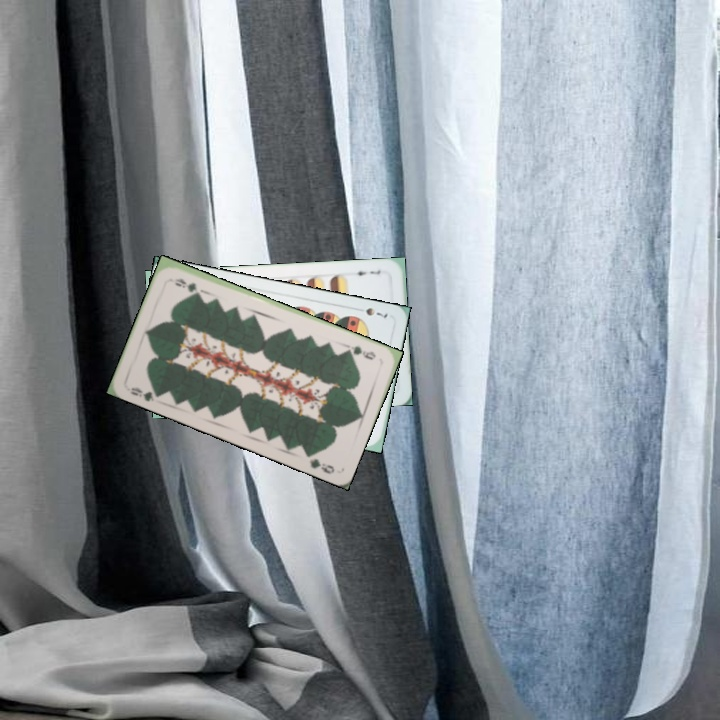E7: (349, 266, 383, 278)
G9: (126, 383, 165, 404), (342, 341, 378, 363)
S7: (352, 304, 390, 320)
